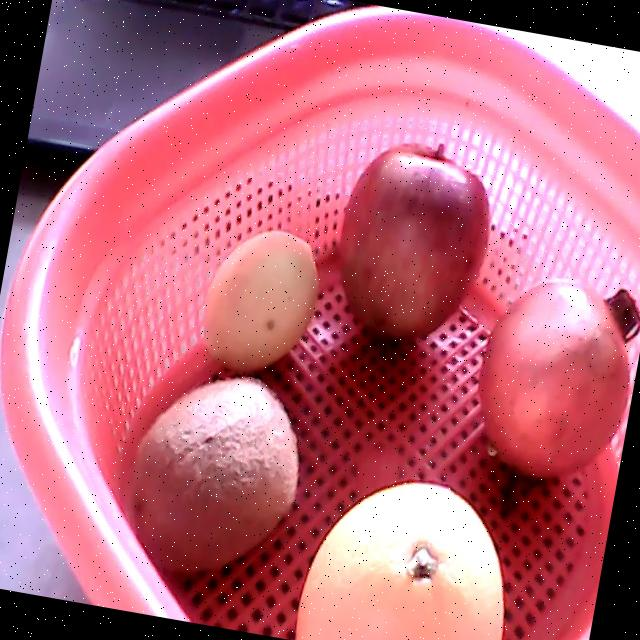apple: (337, 140, 489, 344)
kiwi: (130, 378, 298, 573)
lemon: (201, 229, 317, 368)
orange: (293, 481, 503, 640)
pomegranate: (479, 280, 640, 475)
